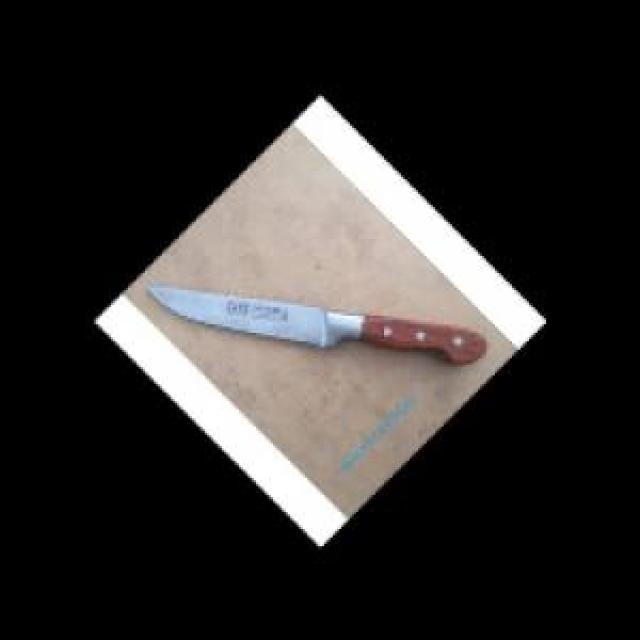knife: (136, 280, 492, 371)
